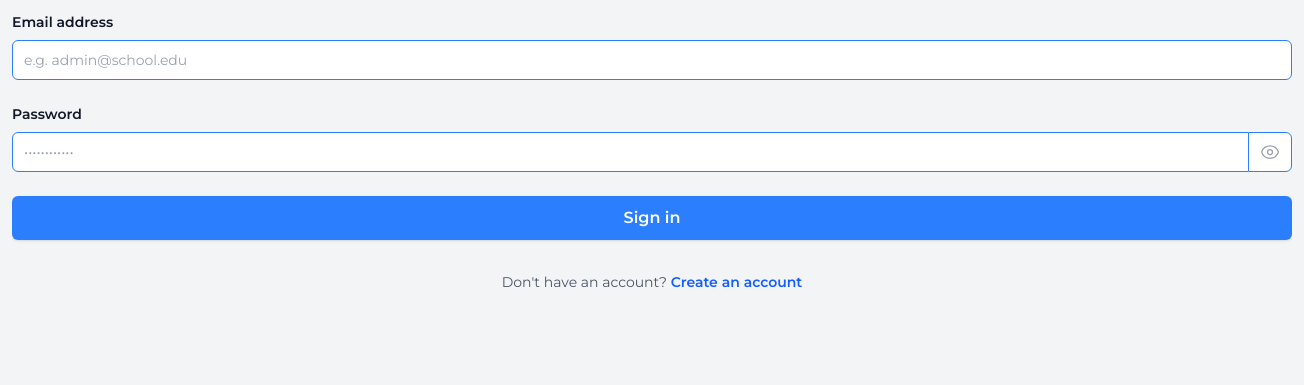
Scenario: shows a server error without clearing the email address
Step 1. Type "staff@school.test" into the field labelled "Email address" → [652, 60], box [12,40,1292,80]
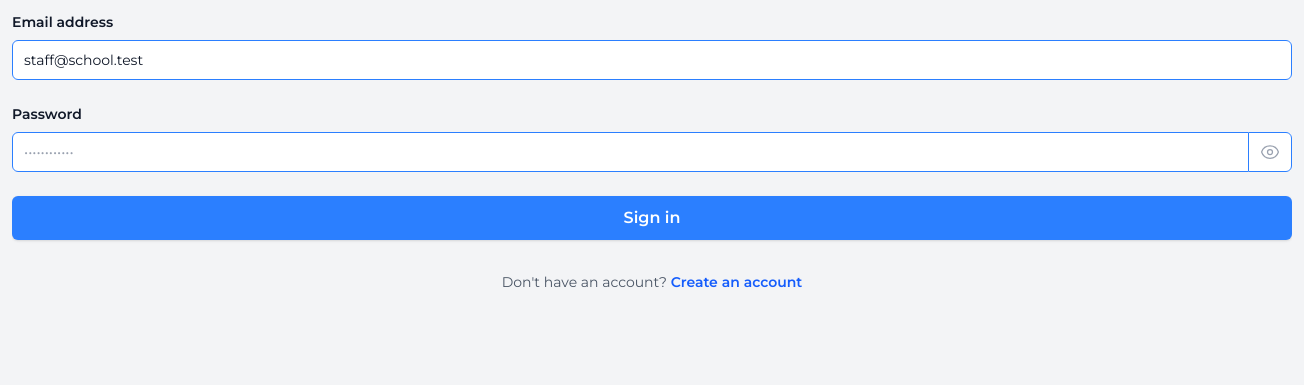
Step 2. Type "password123" into the password field labelled "Password" → [630, 152], box [12,132,1249,172]
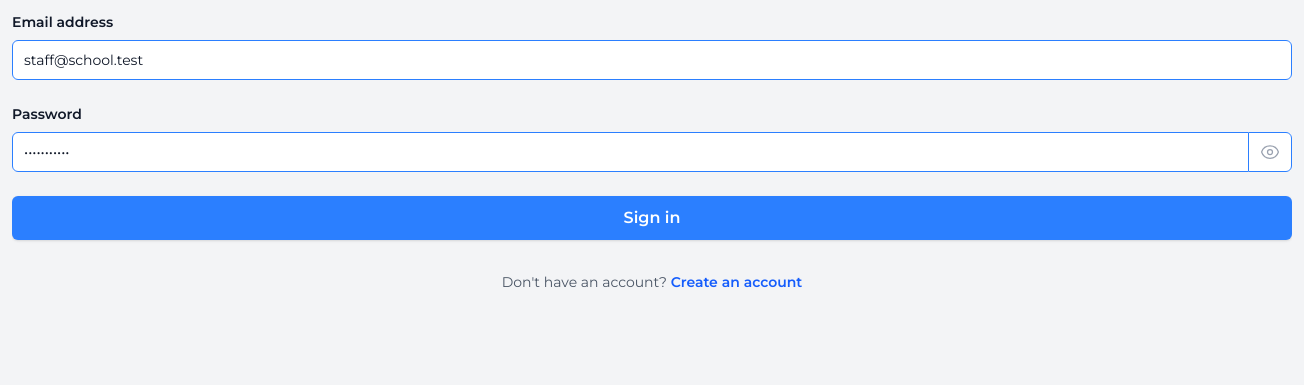
Step 3. Click the button "Sign in" → [652, 218], box [12,196,1292,240]
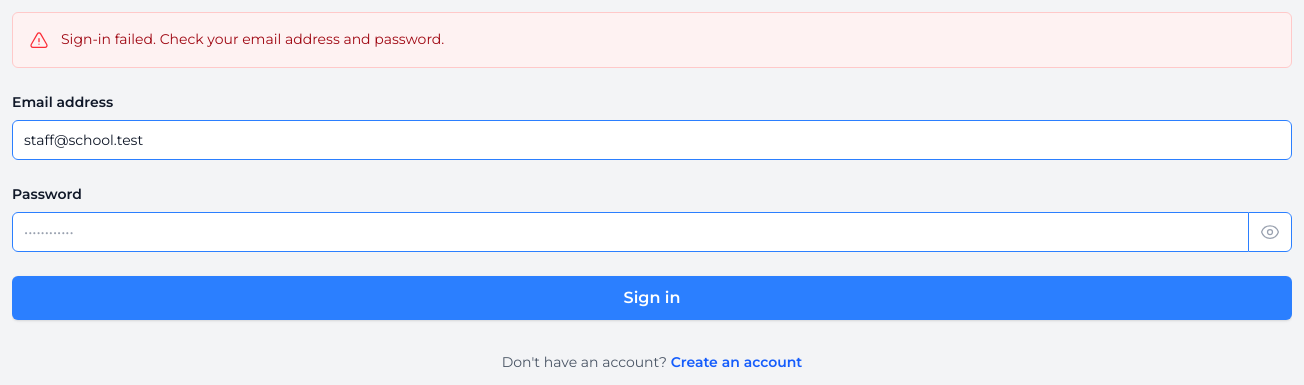
expect the message reads "Sign-in failed. Check your email address and password.": met, box [61,30,444,48]
